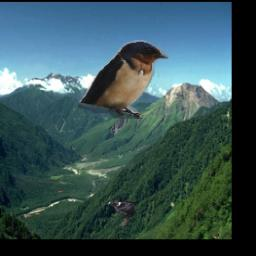Crow: (107, 199, 134, 227)
Swallow: (79, 41, 169, 120)
